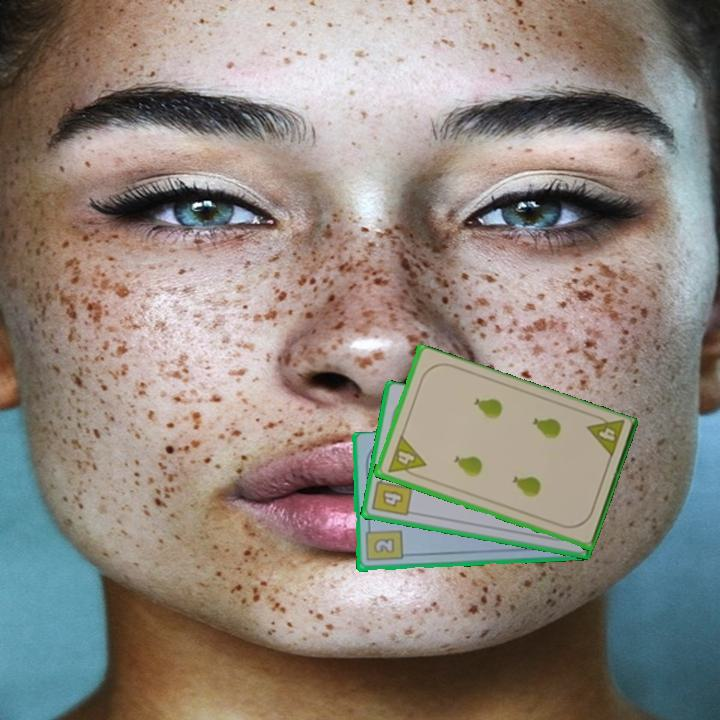2b: (361, 522, 405, 564)
4b: (369, 471, 415, 519)
4p: (583, 410, 627, 462), (384, 433, 428, 481)
